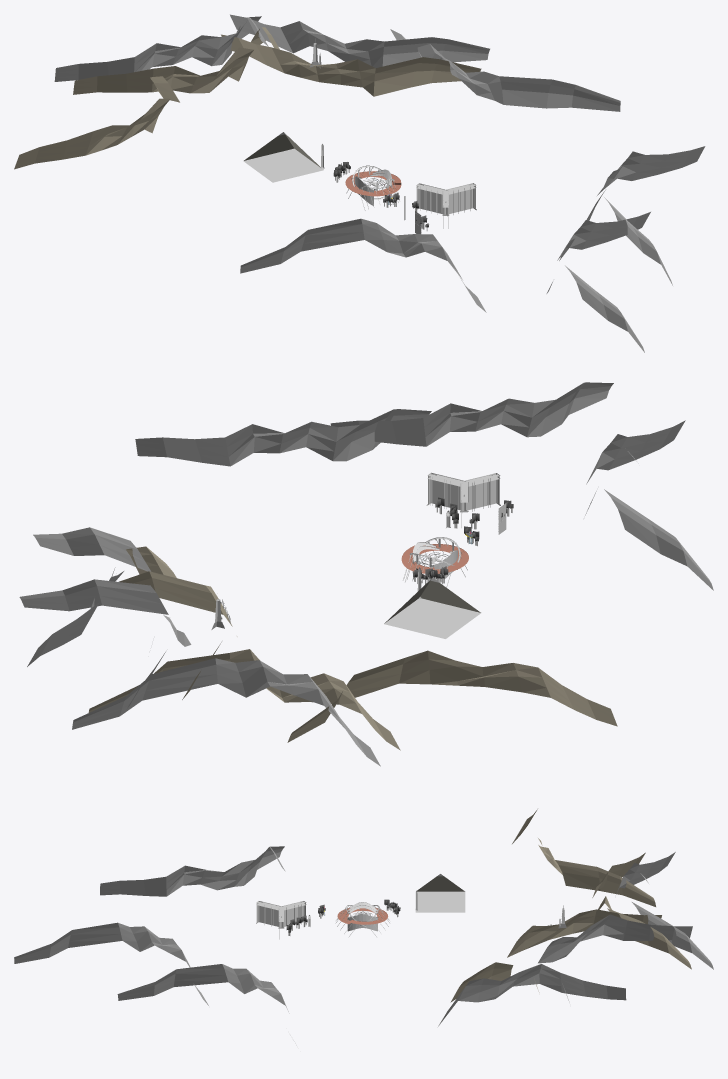
File: arena.glb
The picture shows the model from 3 angles, top to bottom: view 1: azimuth 30°, elevation 25°; view 2: azimuth 150°, elevation 25°; view 3: azimuth 270°, elevation 25°; orthographic projection. The views are drawn at different scales.
Visible parts, largest first — view 1: mesh_42, mesh_0, mesh_15, mesh_6, mesh_8, mesh_21, mesh_20; view 2: mesh_42, mesh_0, mesh_15, mesh_6, mesh_8, mesh_21, mesh_46, mesh_20; view 3: mesh_42, mesh_0, mesh_15, mesh_6, mesh_20, mesh_8, mesh_21.
Part boxes in pixels (x1,y1,x2,y2): mesh_42: [14, 14, 705, 352]; mesh_0: [243, 148, 392, 198]; mesh_15: [244, 134, 475, 214]; mesh_6: [416, 184, 475, 214]; mesh_8: [416, 188, 475, 228]; mesh_21: [315, 44, 401, 196]; mesh_20: [346, 165, 400, 210]; mesh_42: [19, 382, 713, 766]; mesh_0: [222, 531, 480, 638]; mesh_15: [384, 476, 498, 623]; mesh_6: [428, 474, 499, 527]; mesh_8: [428, 479, 499, 527]; mesh_21: [215, 544, 468, 622]; mesh_46: [413, 497, 513, 579]; mesh_20: [403, 537, 472, 587]; mesh_42: [14, 809, 713, 1045]; mesh_0: [324, 891, 551, 925]; mesh_15: [257, 876, 464, 927]; mesh_6: [257, 902, 310, 927]; mesh_20: [335, 905, 389, 937]; mesh_8: [256, 905, 310, 939]; mesh_21: [337, 907, 564, 925].
Bounding box in the file's own units: 6375 × 873 × 8434.
